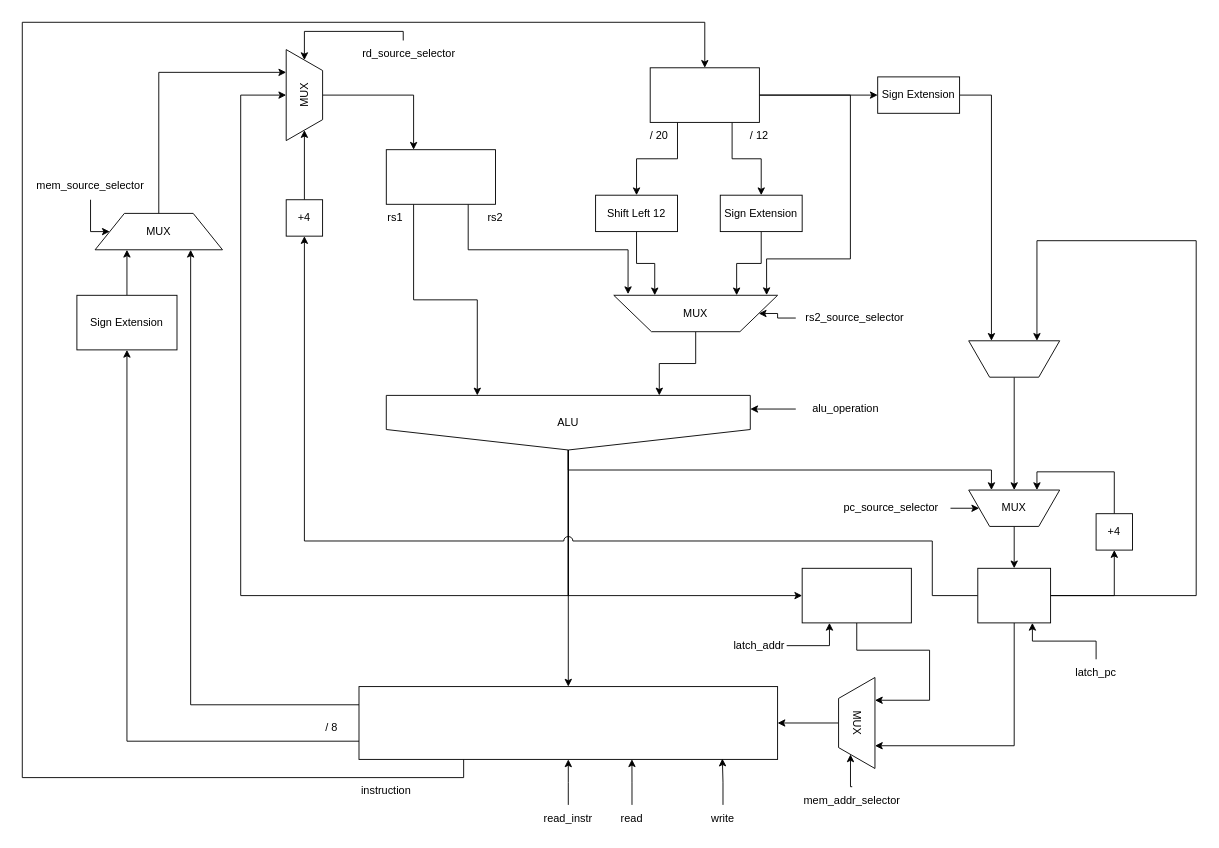
The diagram is 1219 pixels wide and 848 high, and some of its shapes have lost their labels. Each missing label, with the centre of its shape:
"Add" goes at point 1014,358.
"Address Register" goes at point 856,595.
"CU" goes at point 704,94.
"Memory" goes at point 568,722.
"PC" goes at point 1014,595.
"Register File" goes at point 440,176.
